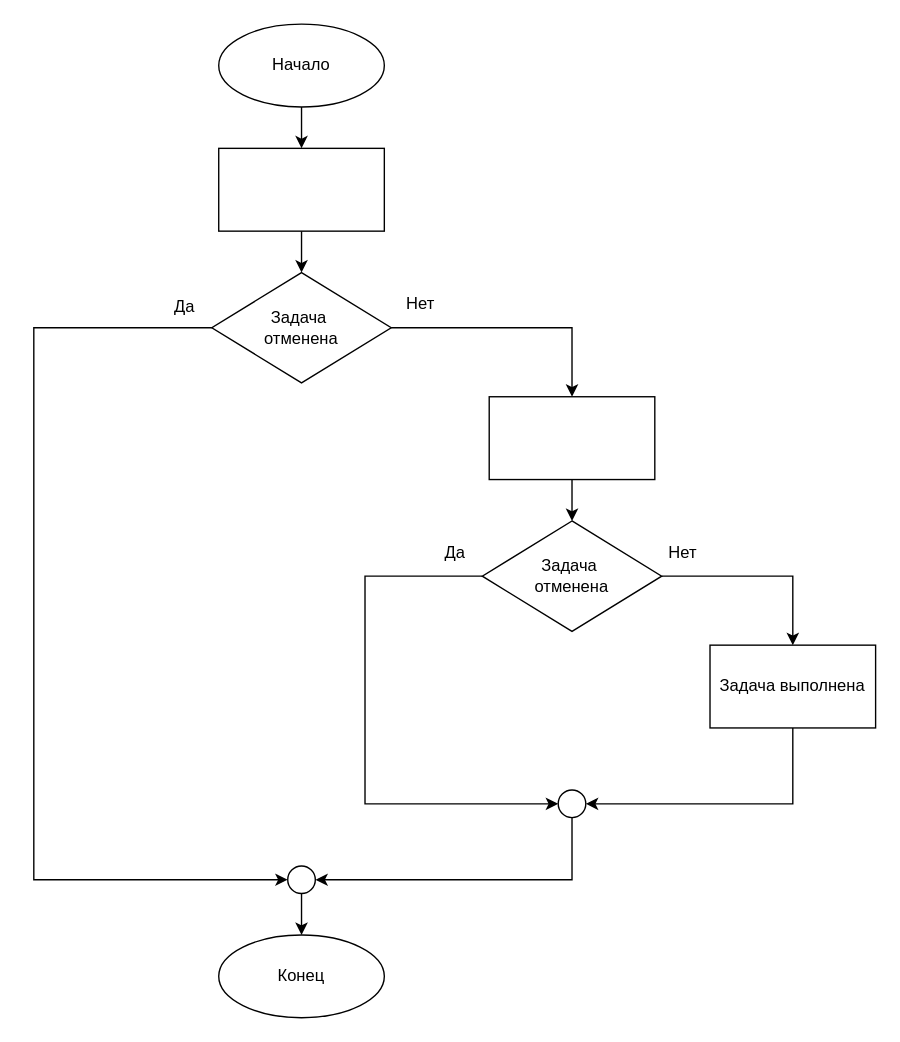
Some shapes in this 900 by 1042 pixel diagram are drawn without their labels. The centre of each missing label's shape, as x and y in pixels:
Задача в процессе: the point at 571,437
Задача создана: the point at 300,189
